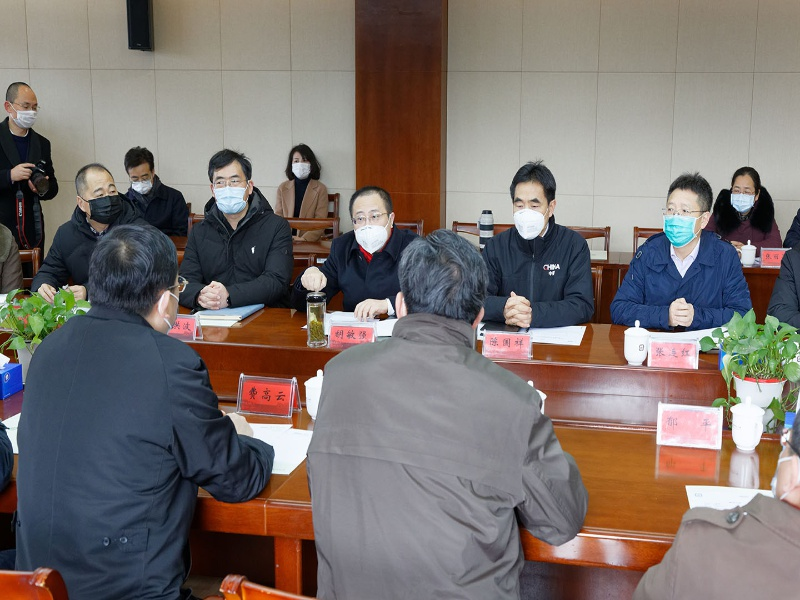ManaoArotava: (196, 143, 267, 233), (654, 167, 716, 255), (506, 150, 561, 248), (70, 162, 139, 238), (341, 180, 398, 263), (4, 79, 51, 151), (727, 156, 773, 226), (116, 139, 166, 200), (279, 139, 328, 193)
